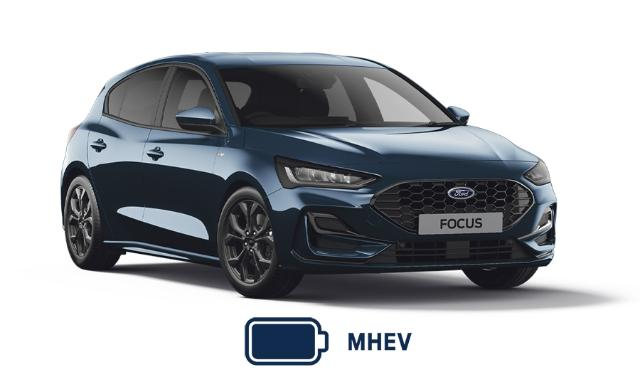ford: (60, 51, 558, 299)
